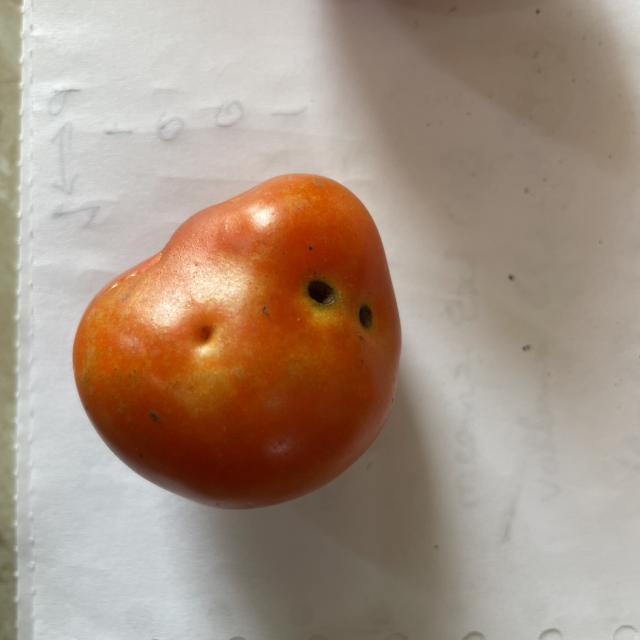fruitworm_bore: (299, 270, 339, 316), (349, 299, 383, 334)
